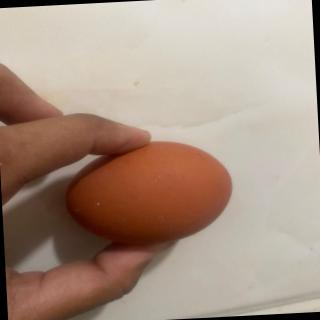Telur: (64, 136, 241, 247)
